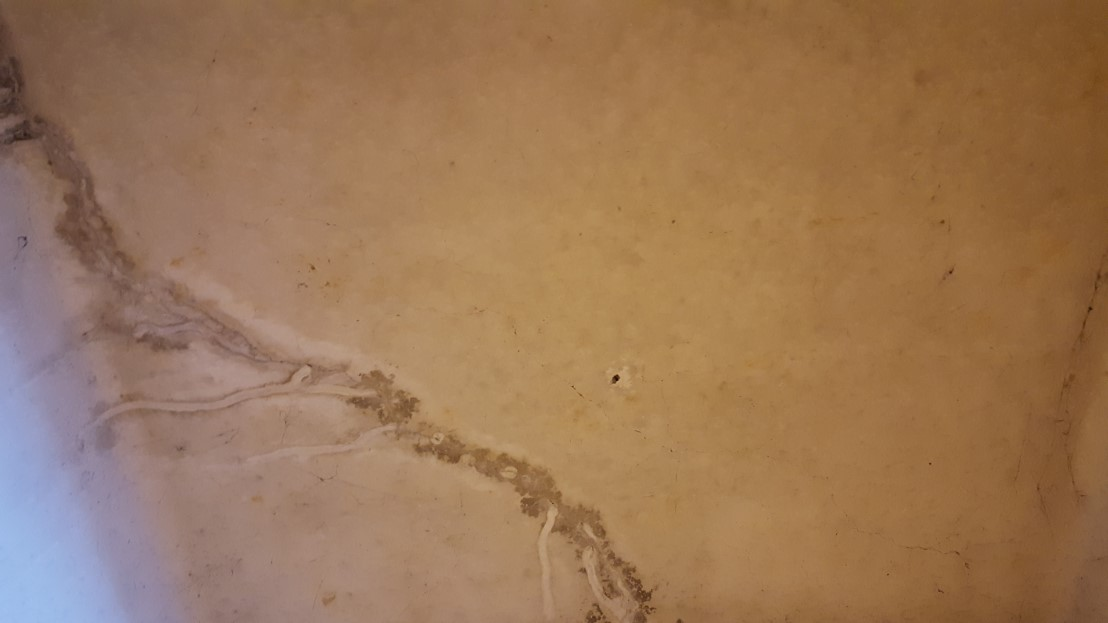Crack: (492, 297, 699, 491), (1010, 216, 1108, 548), (821, 486, 983, 602)
